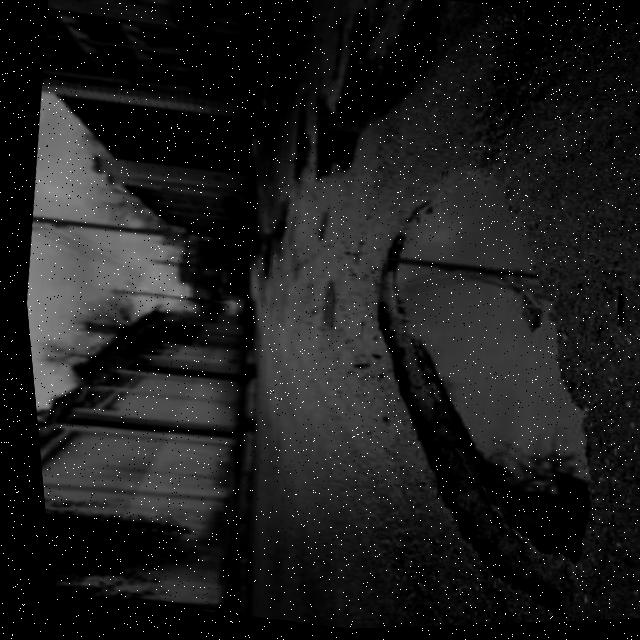Pothole: (307, 154, 640, 628)
